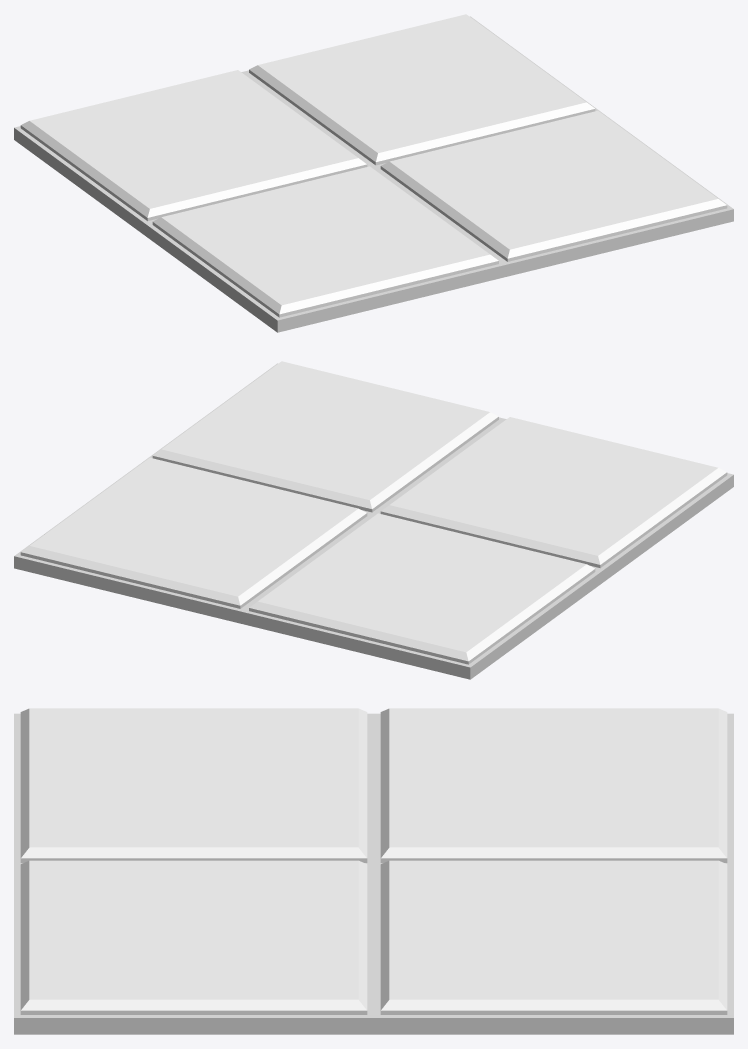
File: Zemin_2.fbx
3 views of the same model, one above another, from view 1: azimuth 30°, elevation 25°; view 2: azimuth 150°, elevation 25°; view 3: azimuth 270°, elevation 25° (orthographic). The views are drawn at different scales.
Visible parts, largest first — view 1: Cube.001; view 2: Cube.001; view 3: Cube.001.
Part boxes in pixels (box(x1,y1,x2,y2)): Cube.001: box(14, 14, 733, 332); Cube.001: box(14, 361, 733, 679); Cube.001: box(14, 708, 733, 1034).
Size of the model in its own units: 200 by 8.72 by 200.
